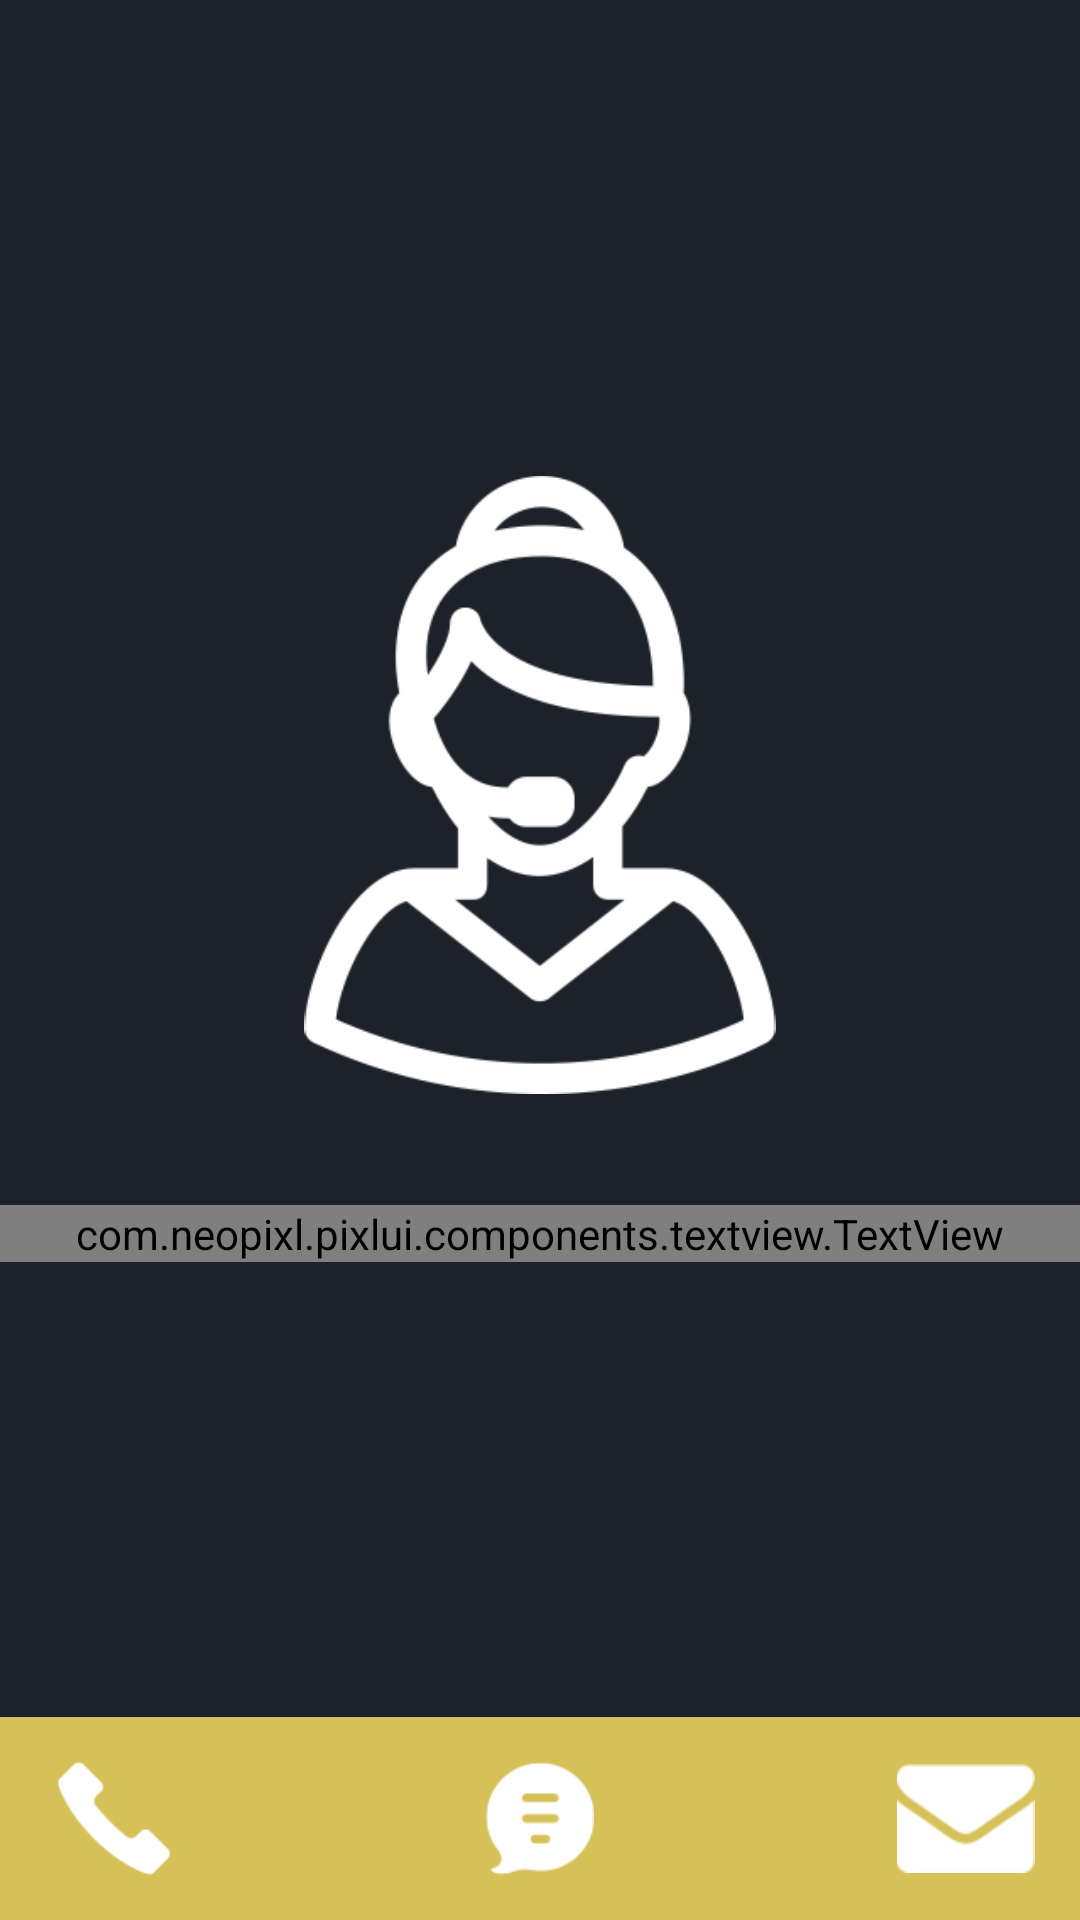

Icon bounding boxes for this 1080w x 1920h phone screenshot, format bbox(x1, y1, x2, y2):
con chat: bbox(486, 1763, 594, 1875)
con envelope: bbox(897, 1764, 1035, 1873)
con phone: bbox(58, 1762, 170, 1875)
